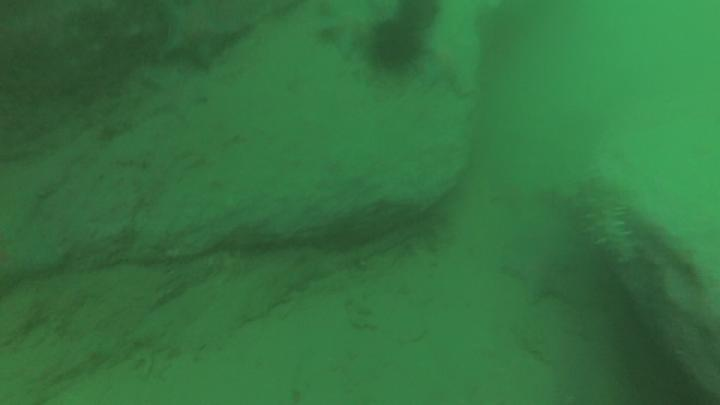echinus: (360, 9, 445, 86)
holothurian: (579, 170, 646, 273)
starfish: (499, 234, 585, 310)
